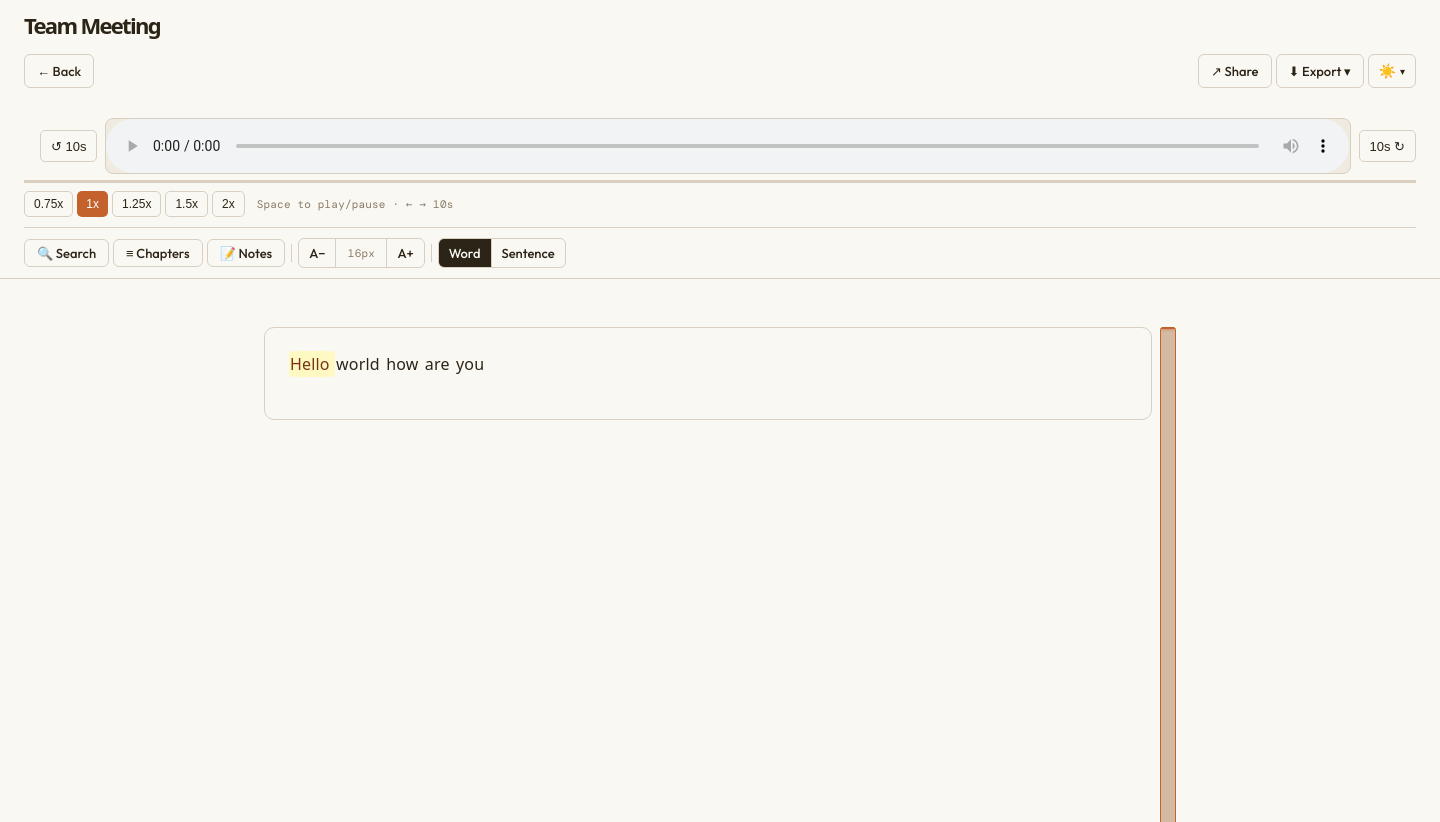
Test: chapters sidebar shows chapter titles
The width and height of the screenshot is (1440, 822).
Expected: the text "Hello" is shown, [289,351,335,377]
Click the button "≡ Chapters" at (158,253), box [113,239,203,267]
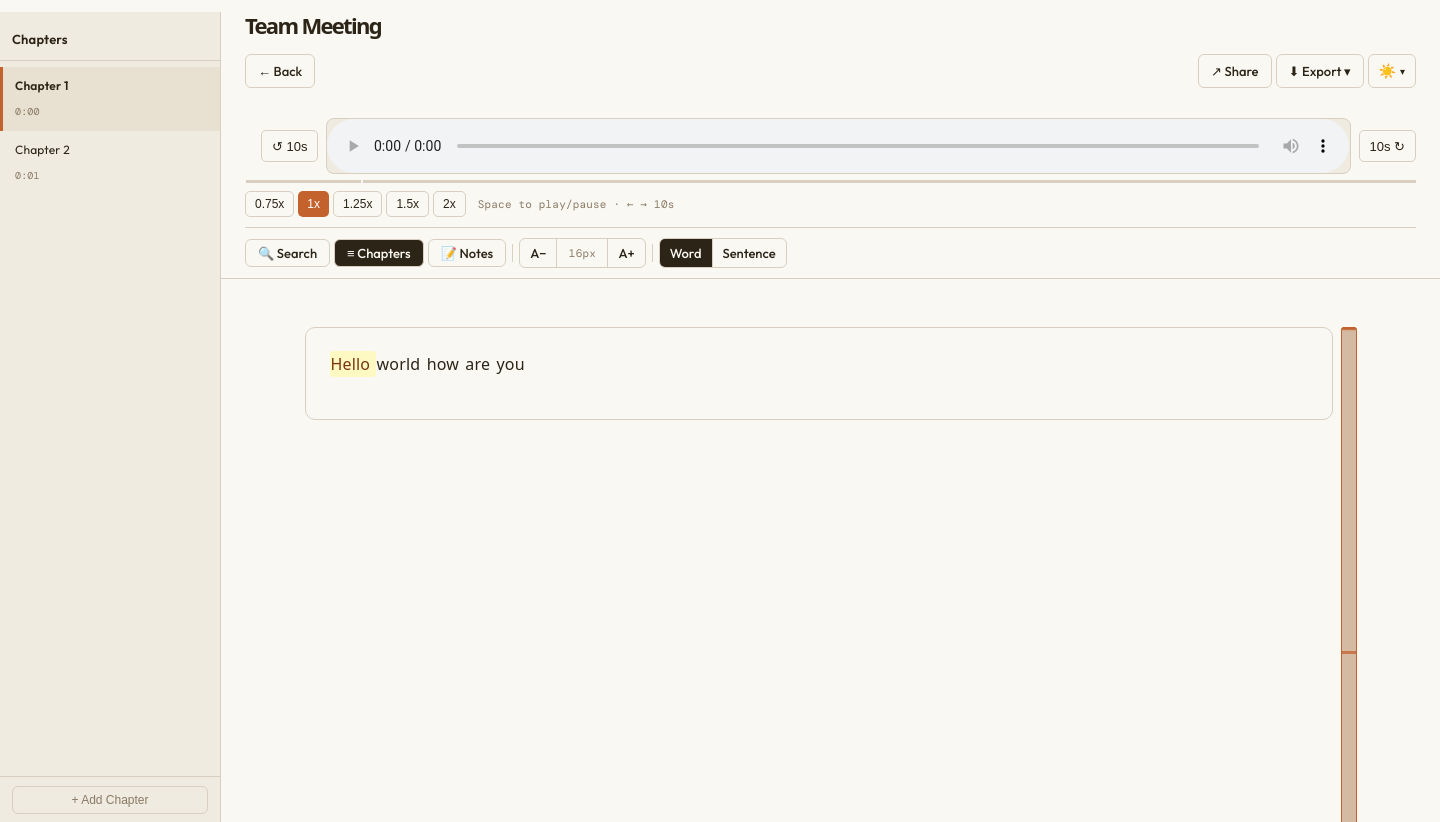
Expected: the text "Chapter 1" is shown, [15,78,68,93]
Expected: the text "Chapter 2" is shown, [15,142,70,157]
